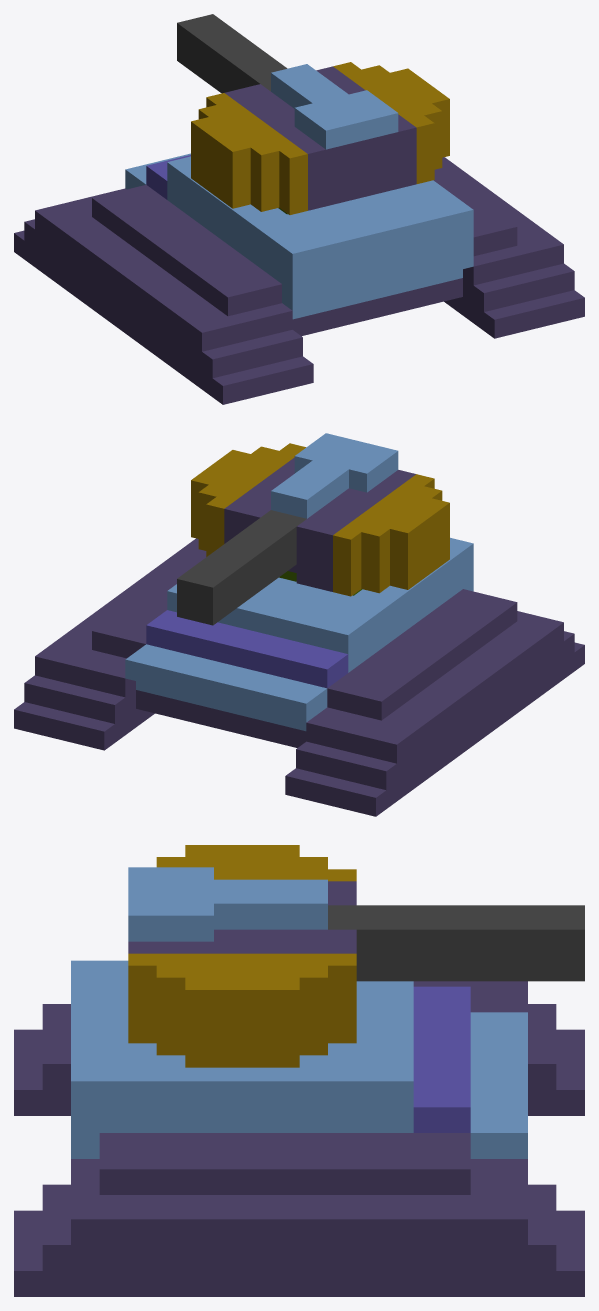
The model's file is tank.obj.
3 renders of one model, top to bottom at view 1: azimuth 30°, elevation 25°; view 2: azimuth 150°, elevation 25°; view 3: azimuth 270°, elevation 25°, orthographic. The views are drawn at different scales.
Bounding box in the file's own units: 20 × 11 × 20.
Materials: 1 (1 with a texture image).
